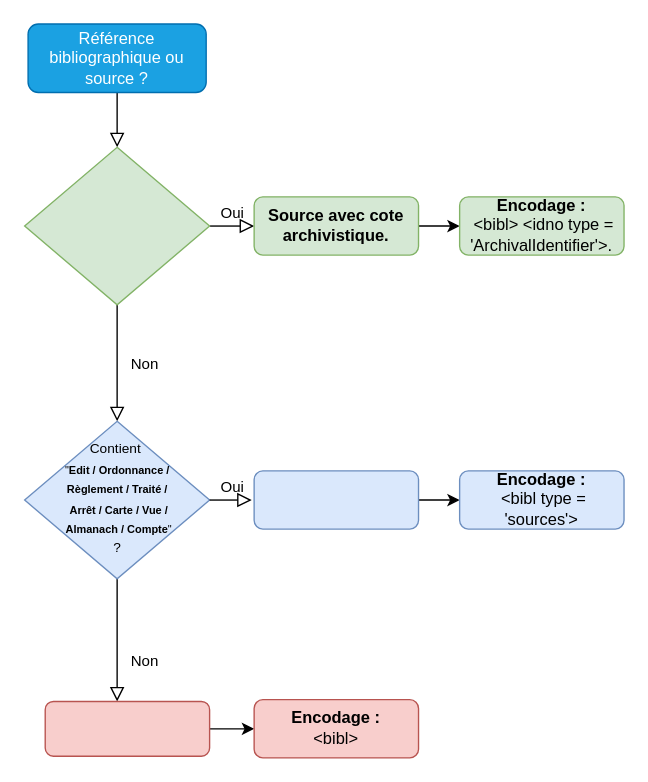
Some shapes in this 648 by 782 pixel diagram are drawn without their labels. The shapes that lost their labels are listed below. From the top down, each one's centre as x and y in pixels, then its label:
point (116, 225): Contient " AM / AN / AD / BnF " ?
point (336, 499): Source éditée.
point (127, 728): Référence bibliographique
